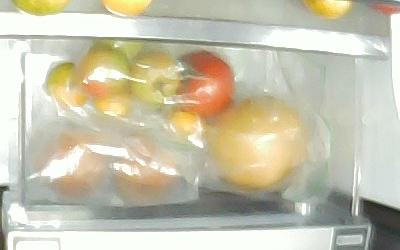peach_vinyl: (30, 128, 106, 199), (109, 130, 181, 203)
pear_vinyl: (202, 92, 309, 190)
tangerine_vinyl: (45, 61, 89, 108), (172, 110, 205, 141), (93, 96, 132, 119)
tomato_vinyl: (171, 48, 235, 118), (77, 46, 131, 99), (128, 50, 178, 104)
